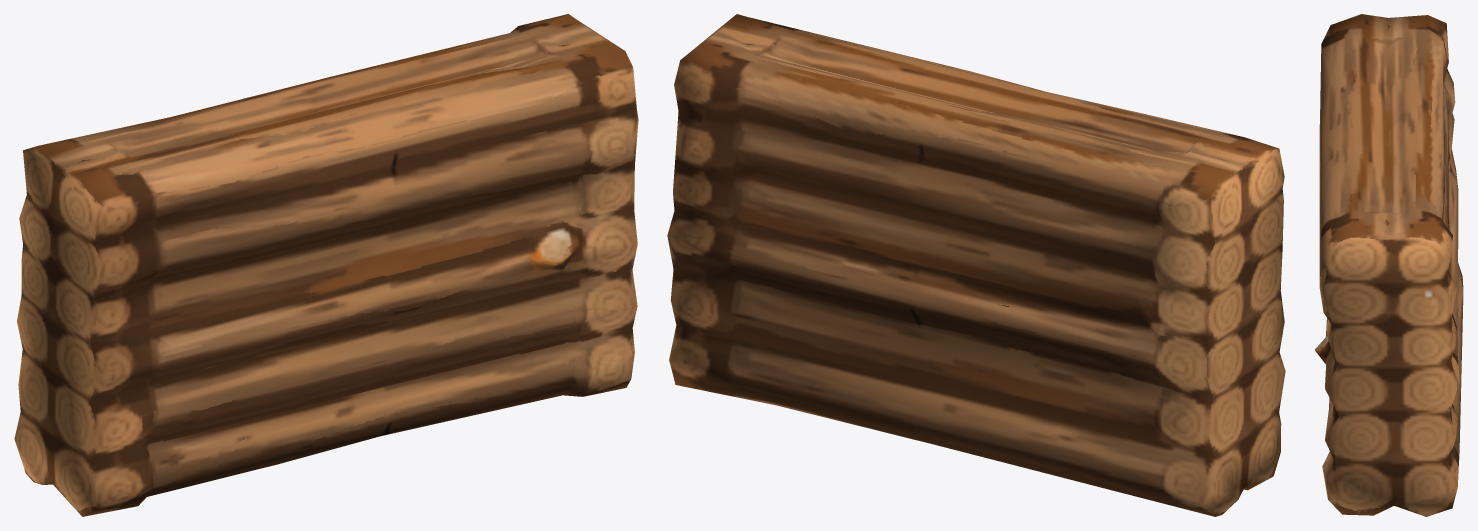
The model's file is log-cabin-wall.glb.
3 renders of one model, left to right at view 1: azimuth 30°, elevation 25°; view 2: azimuth 150°, elevation 25°; view 3: azimuth 270°, elevation 25°, orthographic. The views are drawn at different scales.
Parts seen in each view (by area): view 1: geometry_0.001; view 2: geometry_0.001; view 3: geometry_0.001.
Boxes of the visible parts, bbox=[...] form: geometry_0.001: bbox=[14, 14, 638, 516]; geometry_0.001: bbox=[667, 14, 1285, 516]; geometry_0.001: bbox=[1315, 14, 1463, 516].
Bounding box in the file's own units: 0.999 × 0.5908 × 0.2805.
1 material, 1 textured.
